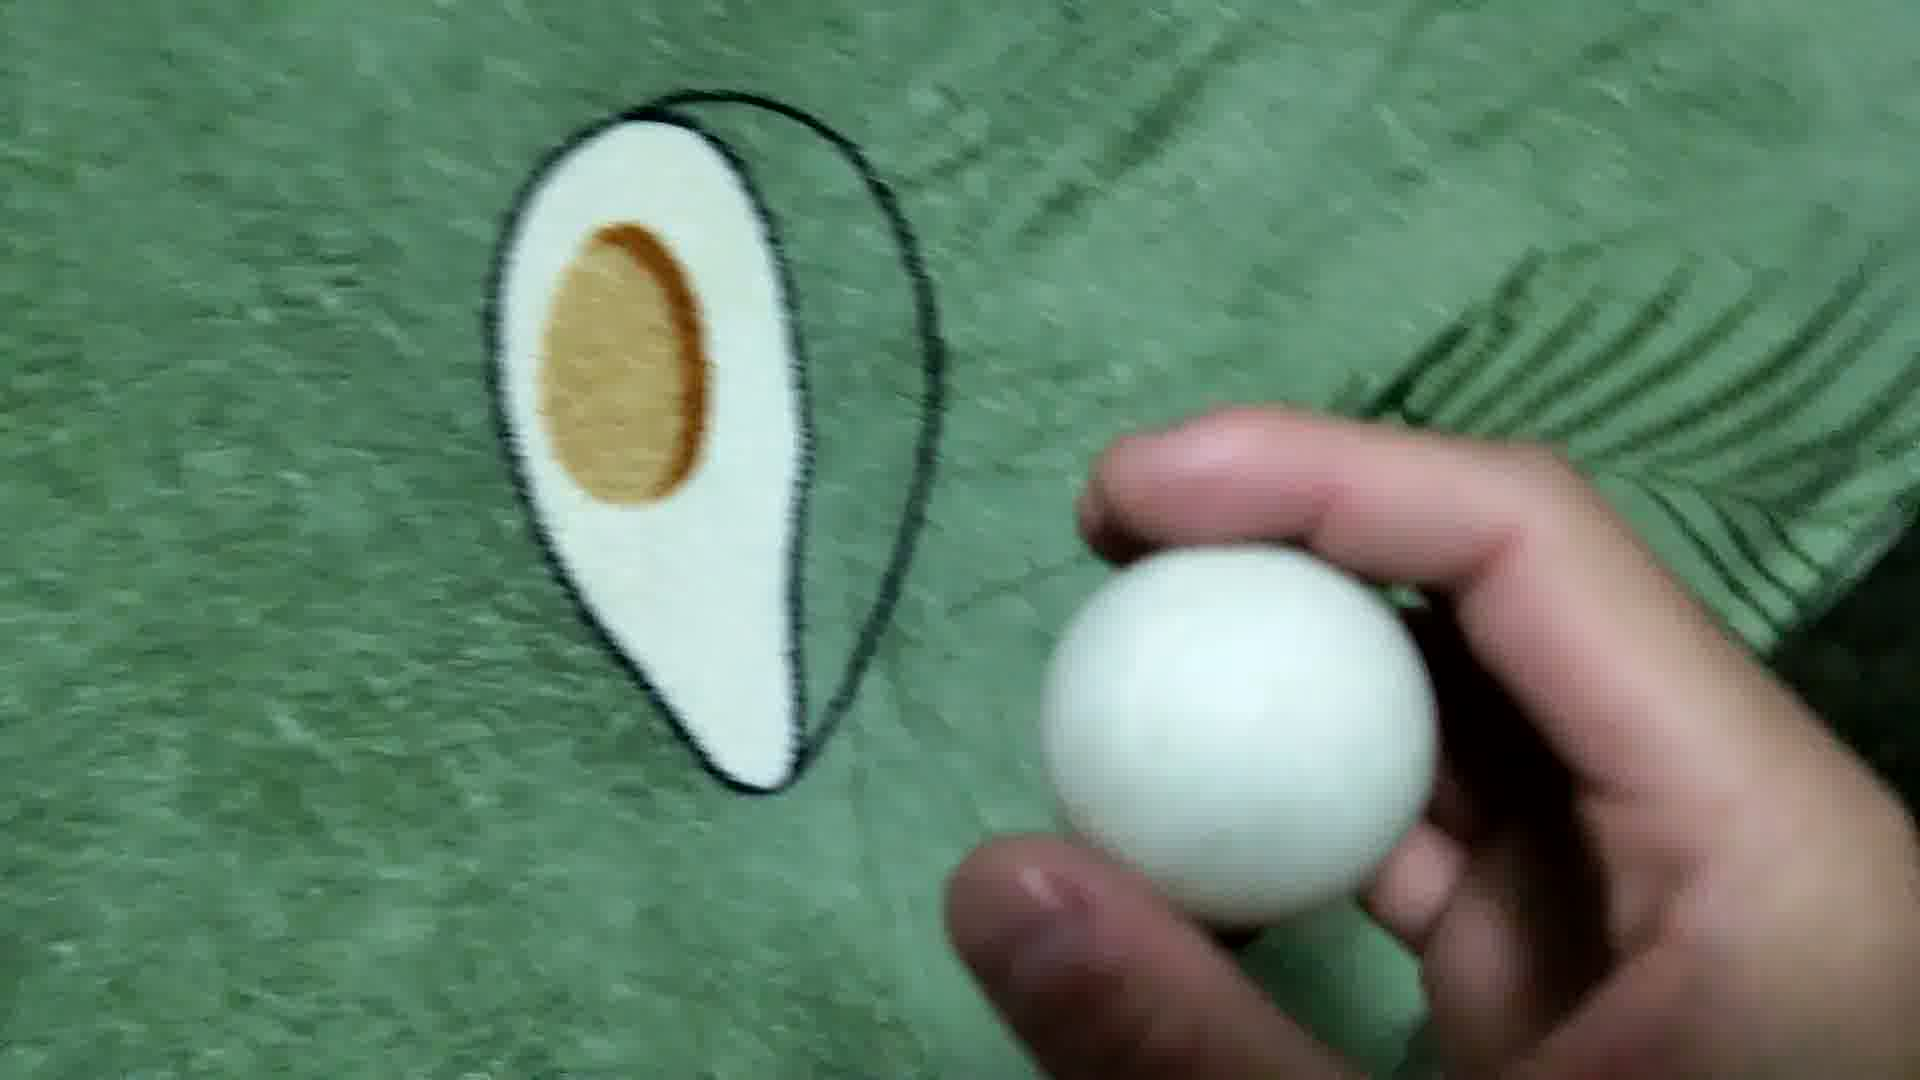Ball: (1040, 535, 1441, 913)
